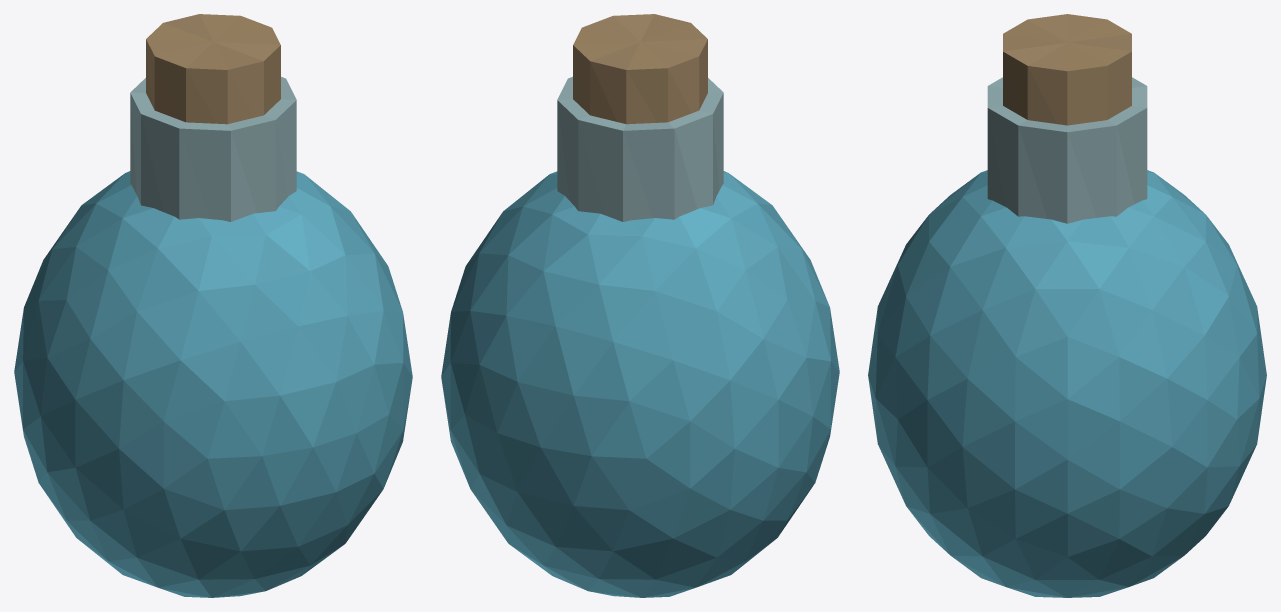
Rendered from potion_blue.glb.
3 renders of one model, left to right at view 1: azimuth 30°, elevation 25°; view 2: azimuth 150°, elevation 25°; view 3: azimuth 270°, elevation 25°, orthographic.
Parts seen in each view (by area): view 1: flask, neck, cork; view 2: flask, neck, cork; view 3: flask, neck, cork.
Boxes of the visible parts, x1,y1,x2,y2 form: flask: (14, 171, 412, 597); neck: (130, 76, 296, 221); cork: (146, 14, 280, 124); flask: (441, 171, 839, 597); neck: (557, 76, 723, 221); cork: (573, 14, 707, 124); flask: (868, 170, 1266, 597); neck: (987, 77, 1147, 223); cork: (1003, 14, 1131, 125).
Bounding box in the file's own units: 0.5 × 0.75 × 0.5.
